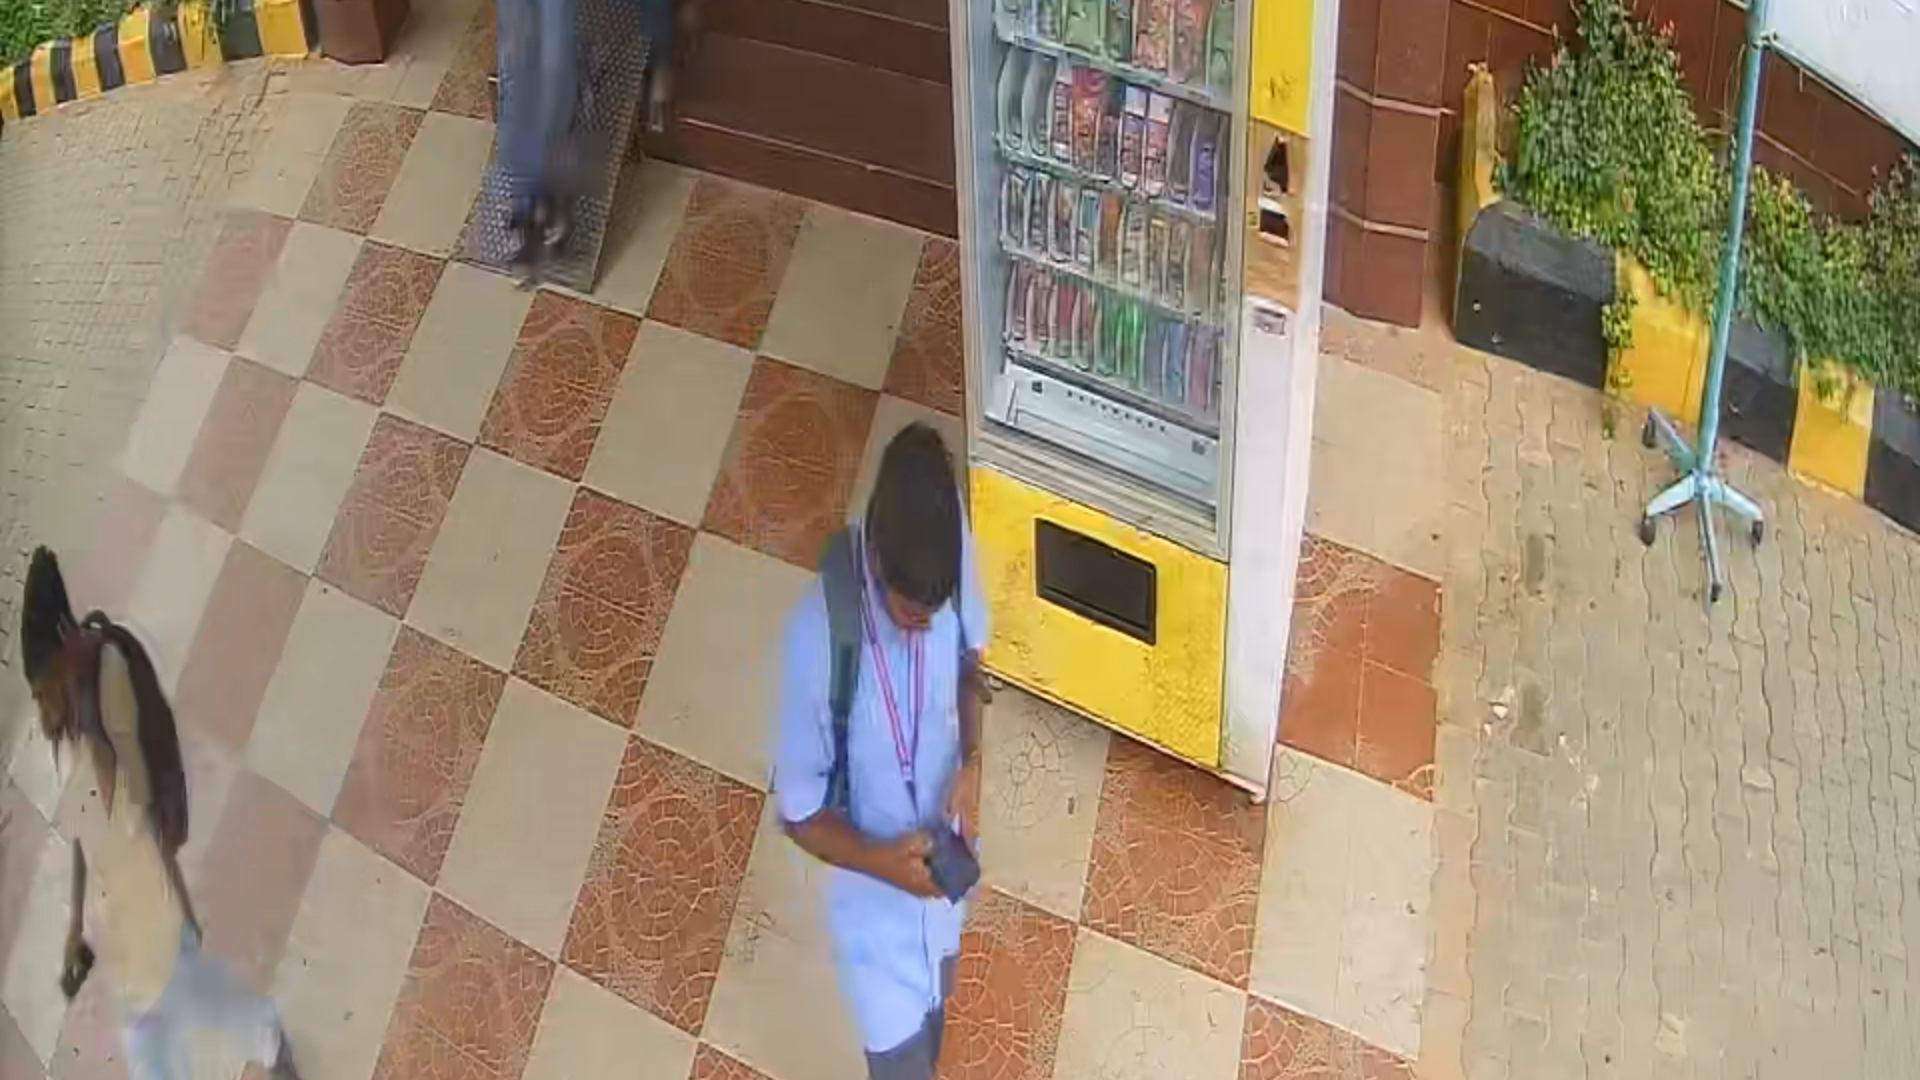not intruder: (789, 430, 1039, 1080)
